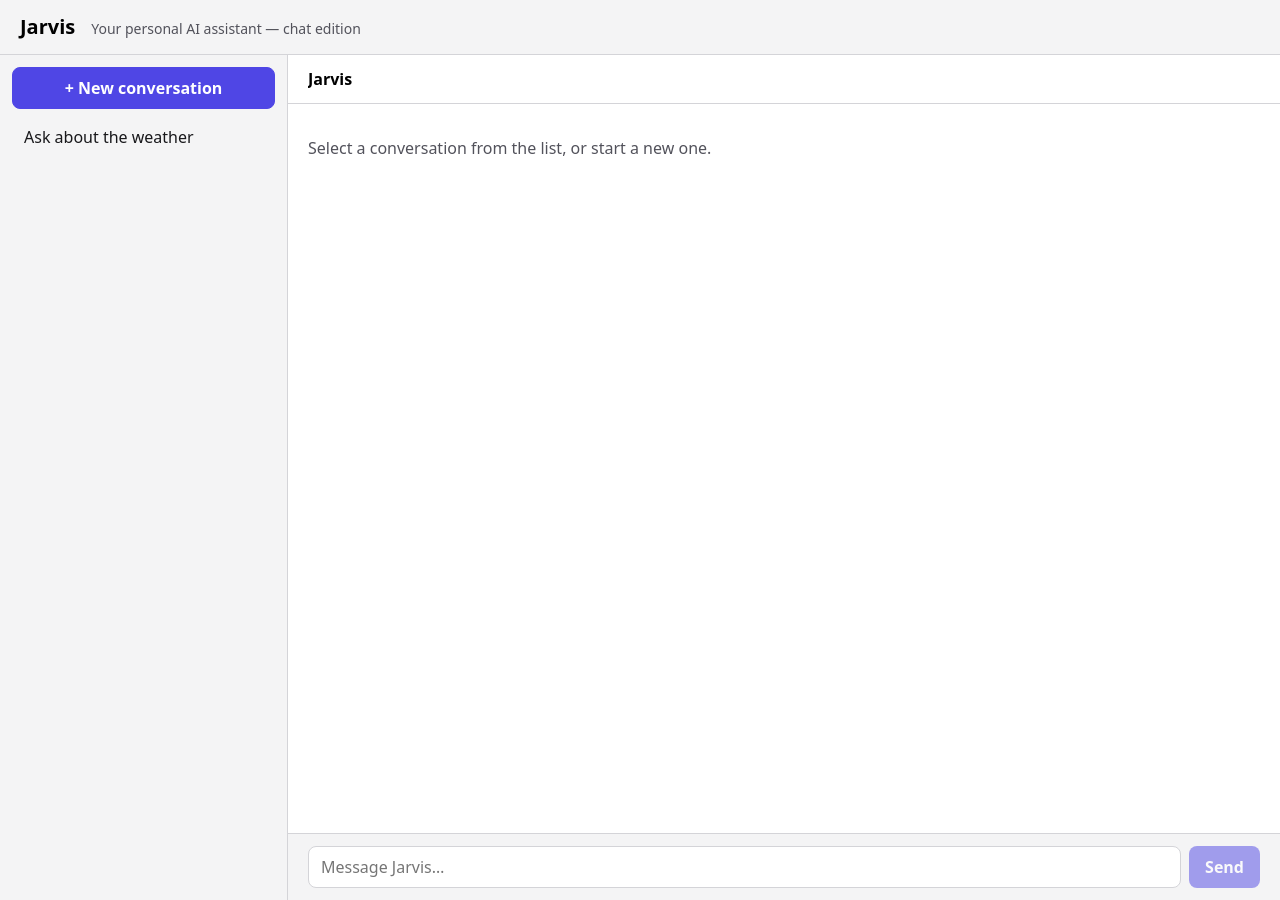
Test: conversation list › lists conversations and opens one to show its stored messages
Click the button "Ask about the weather" at (144, 137), box [12, 117, 275, 157]
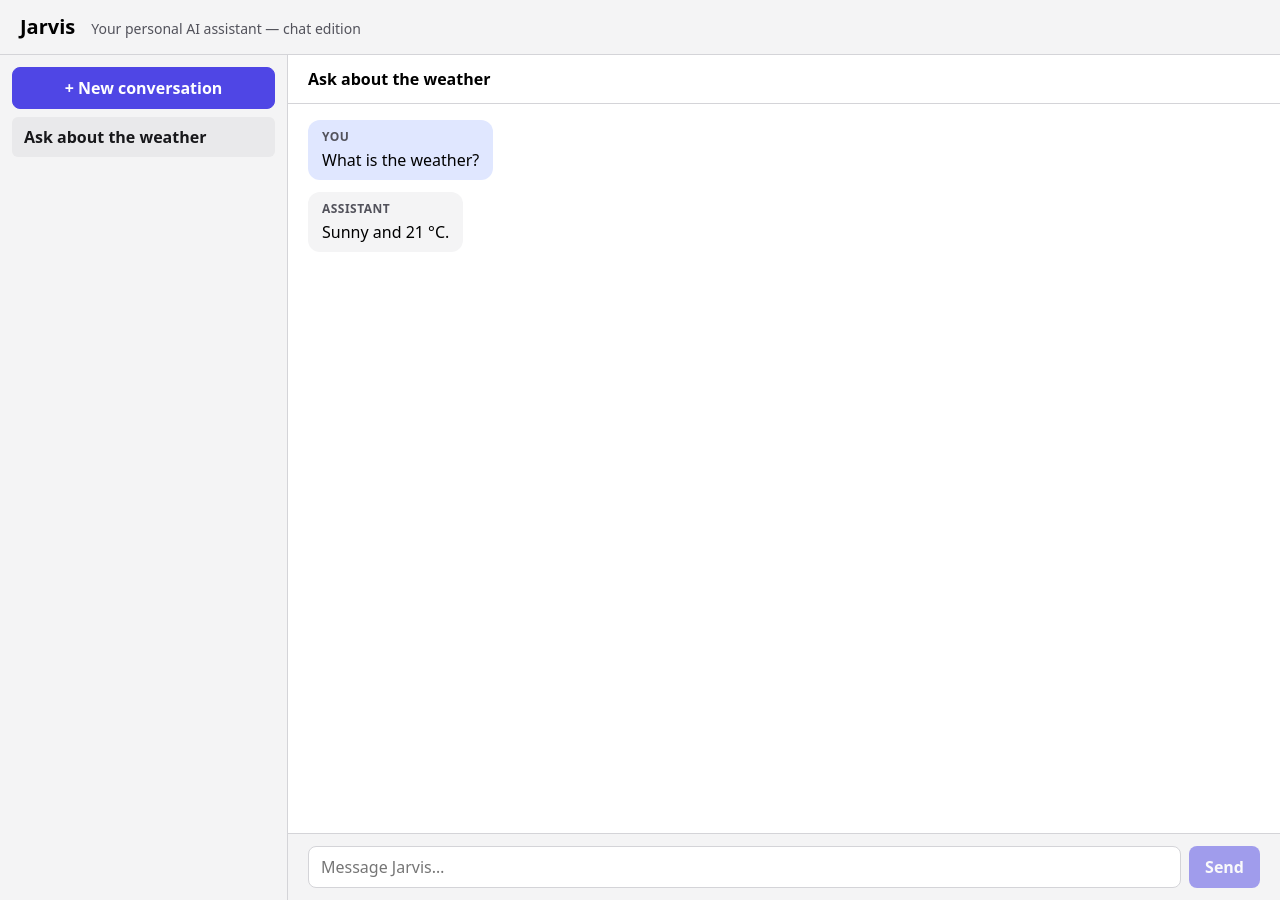
Result: the text "What is the weather?" is shown at [322, 148, 479, 172]
Result: the text "Sunny and 21 °C." is shown at [322, 220, 449, 244]
Result: the heading "You" is shown at [322, 128, 349, 145]
